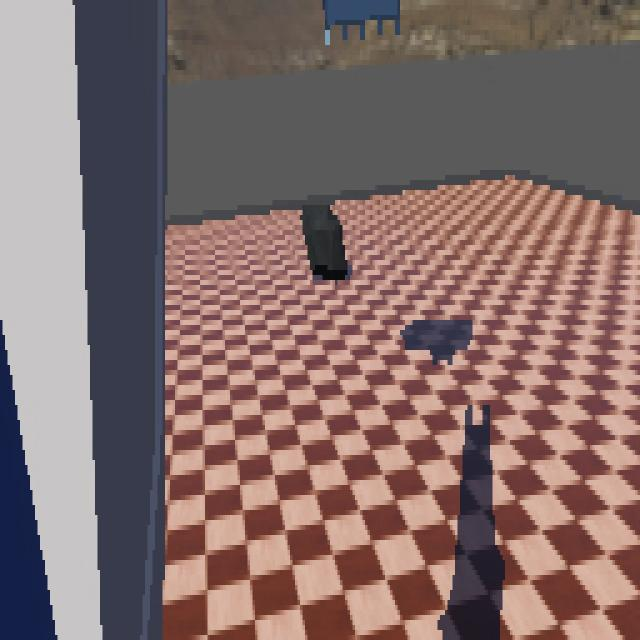rock: (300, 190, 350, 286)
